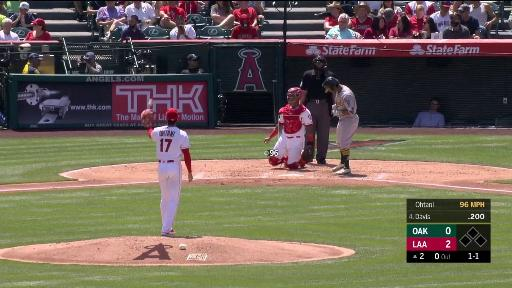pitcher: (139, 98, 201, 235)
